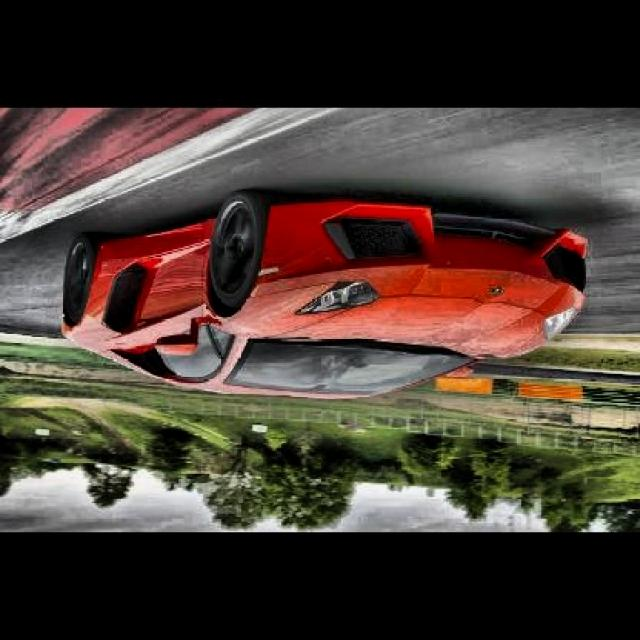red: (82, 215, 638, 405)
